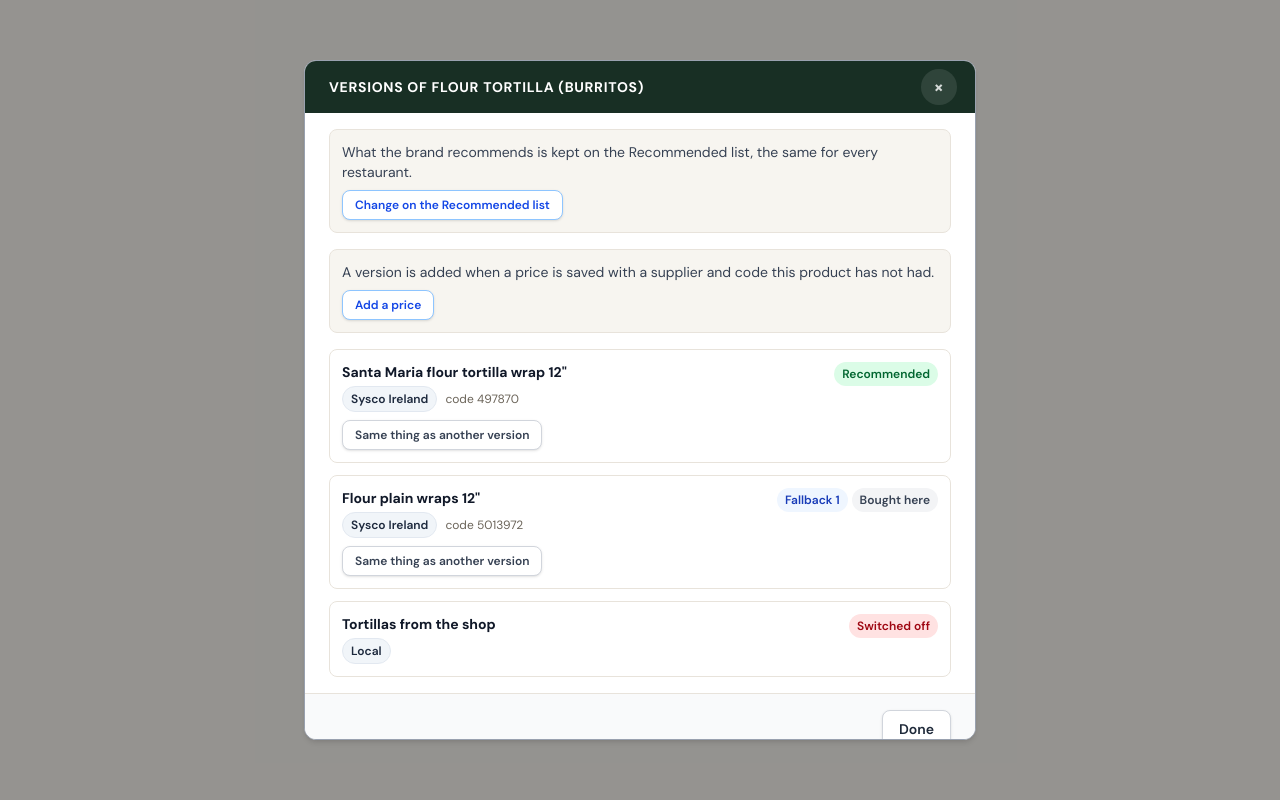
Test: joining two versions that are one thing › asks first, then joins the one pressed into the one picked
The image size is (1280, 800).
Click the button "Same thing as another version" below "Flour plain wraps 12\"": (442, 561) [342,546,542,576]
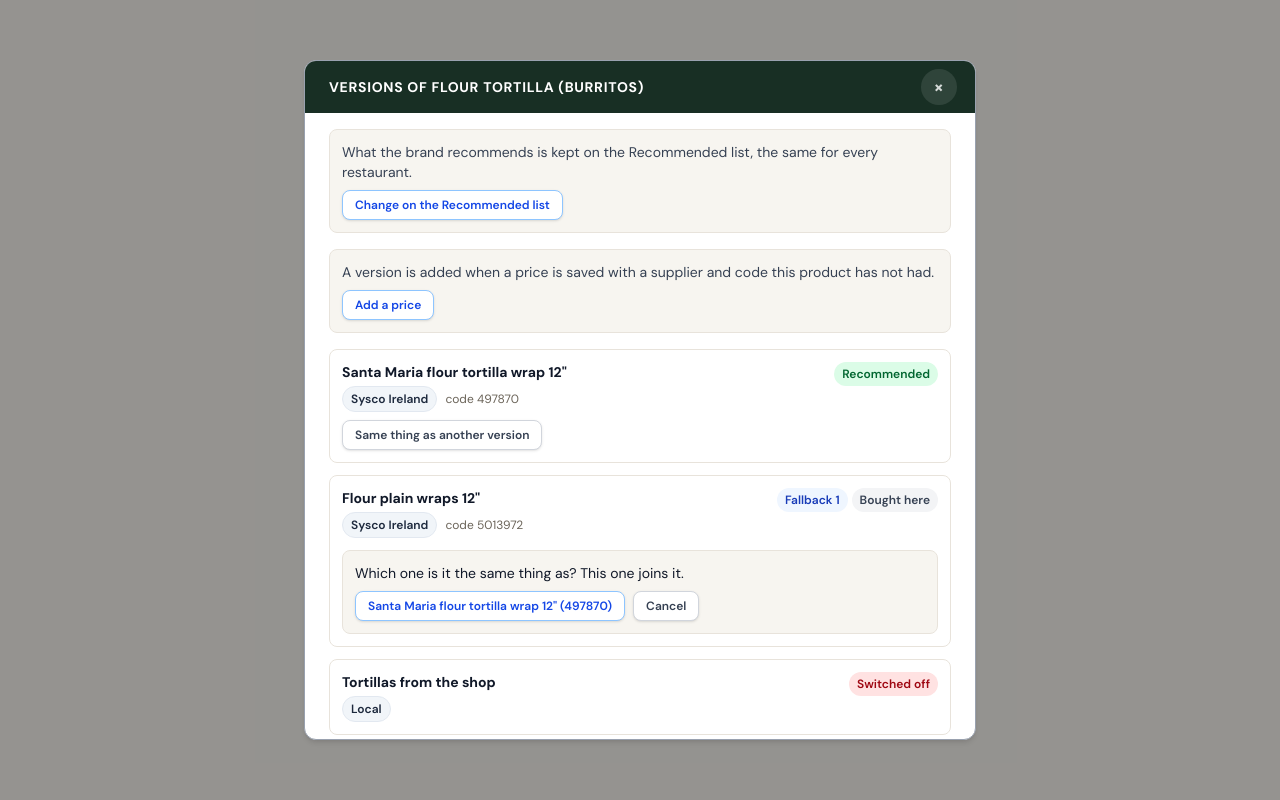
Click the button "Santa Maria flour tortilla wrap 12\" (497870)": (490, 606) [355,591,625,621]
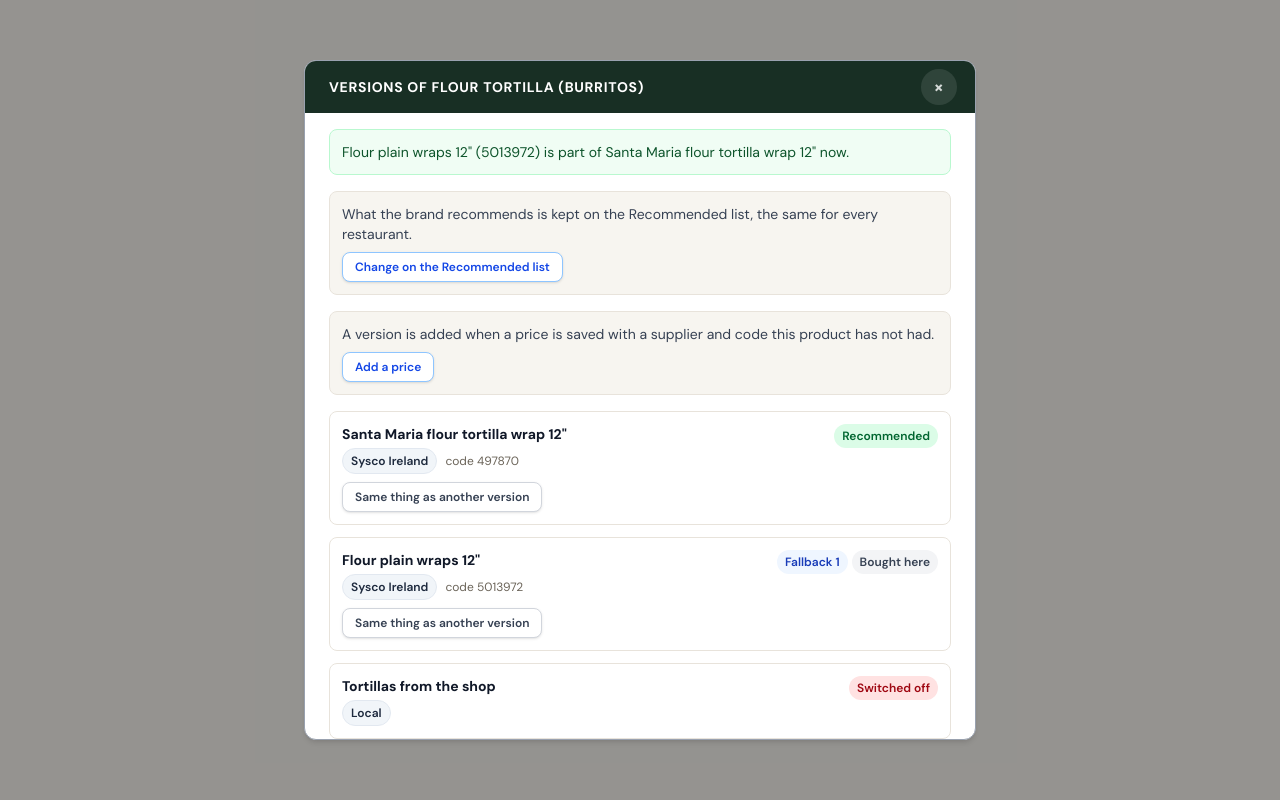
Expected: the text "Flour plain wraps 12\" (5013972) is part of Santa Maria flour tortilla wrap 12\" now." is shown, [342,143,849,161]
